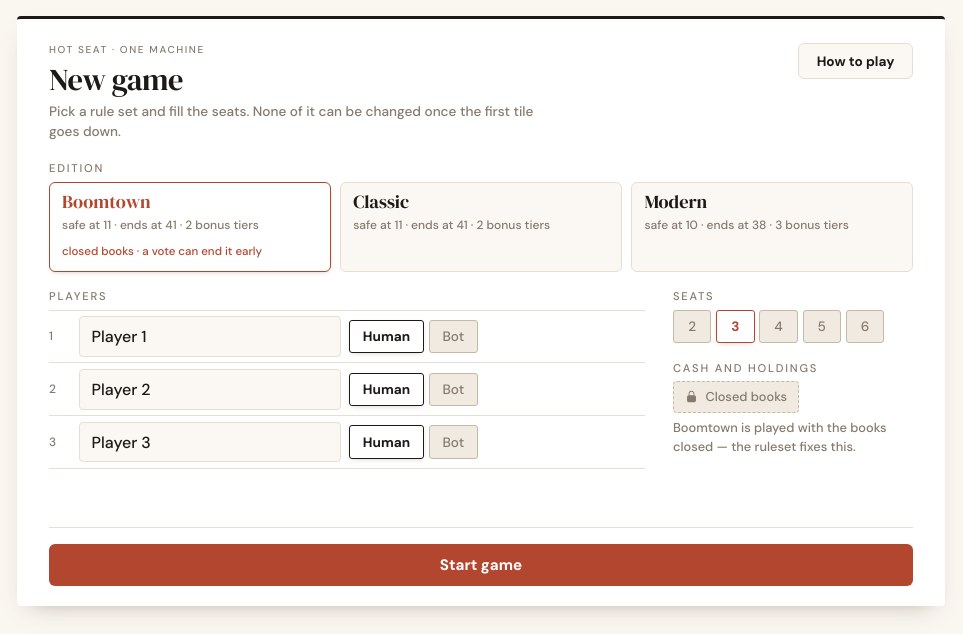
the Boomtown preset in setup › seals the visibility control and says why
Expected: the text "Closed books" is shown, [673,381,799,413]
Expected: the text "the ruleset fixes this" is shown, [673,419,887,455]
What coordinates should you click on to do the following:
click the radio button labelled "Classic safe at 11 · ends at 41 · 2 bonus tiers"
I would click on:
 (481, 227)
Its box is [340,182,622,272].
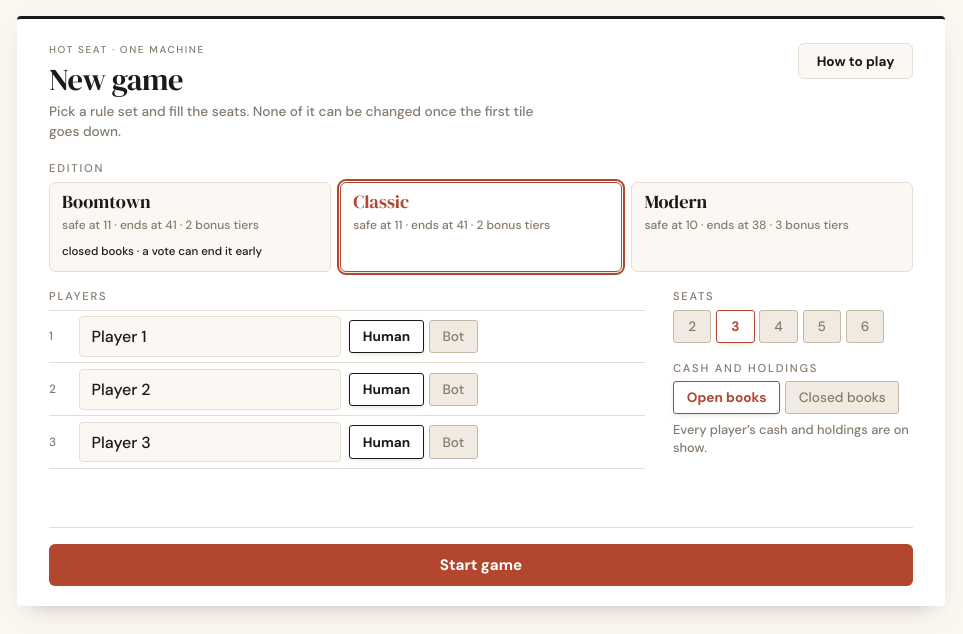
Result: the element named "Cash and holdings" is shown at [673,381,913,414]
Result: the text "the ruleset fixes this" is gone
